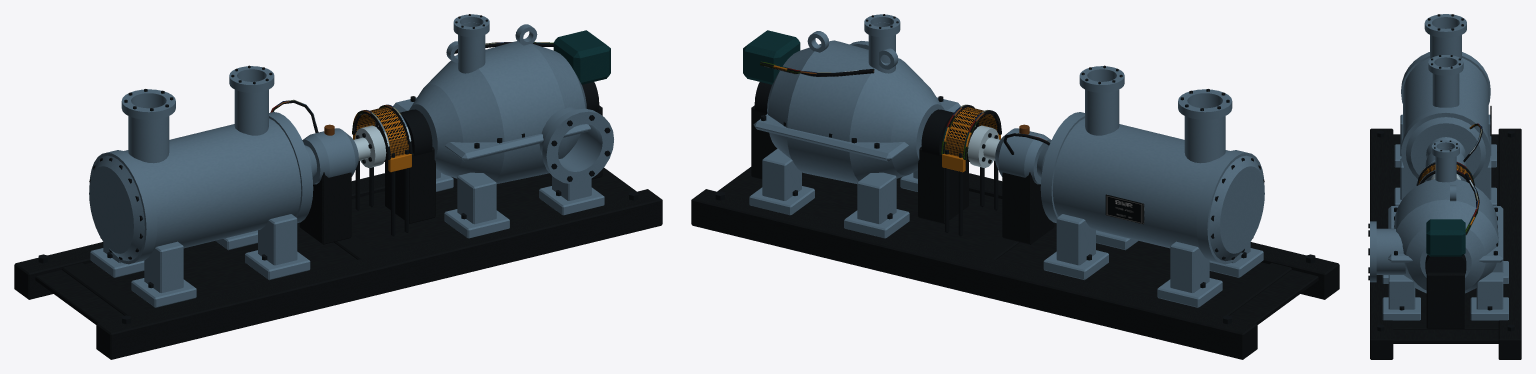
File: assembled.obj
3 views of the same model, side by side, from view 1: azimuth 30°, elevation 25°; view 2: azimuth 150°, elevation 25°; view 3: azimuth 270°, elevation 25° (orthographic). The views are drawn at different scales.
Parts seen in each view (by area): view 1: turbine_feed_pump; view 2: turbine_feed_pump; view 3: turbine_feed_pump.
Boxes of the visible parts, box(x1,y1,x2,y2) form: turbine_feed_pump: box(14, 14, 662, 359); turbine_feed_pump: box(691, 14, 1339, 359); turbine_feed_pump: box(1368, 14, 1521, 359).
Bounding box in the file's own units: 6.72 × 2.38 × 2.06.
